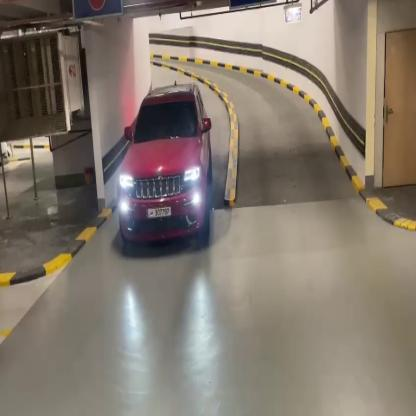np: (145, 205, 175, 219)
